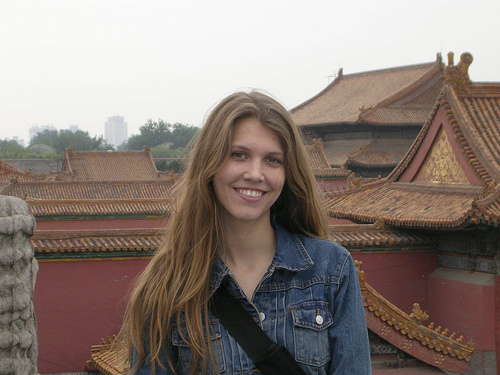without_mask: (210, 114, 290, 219)
